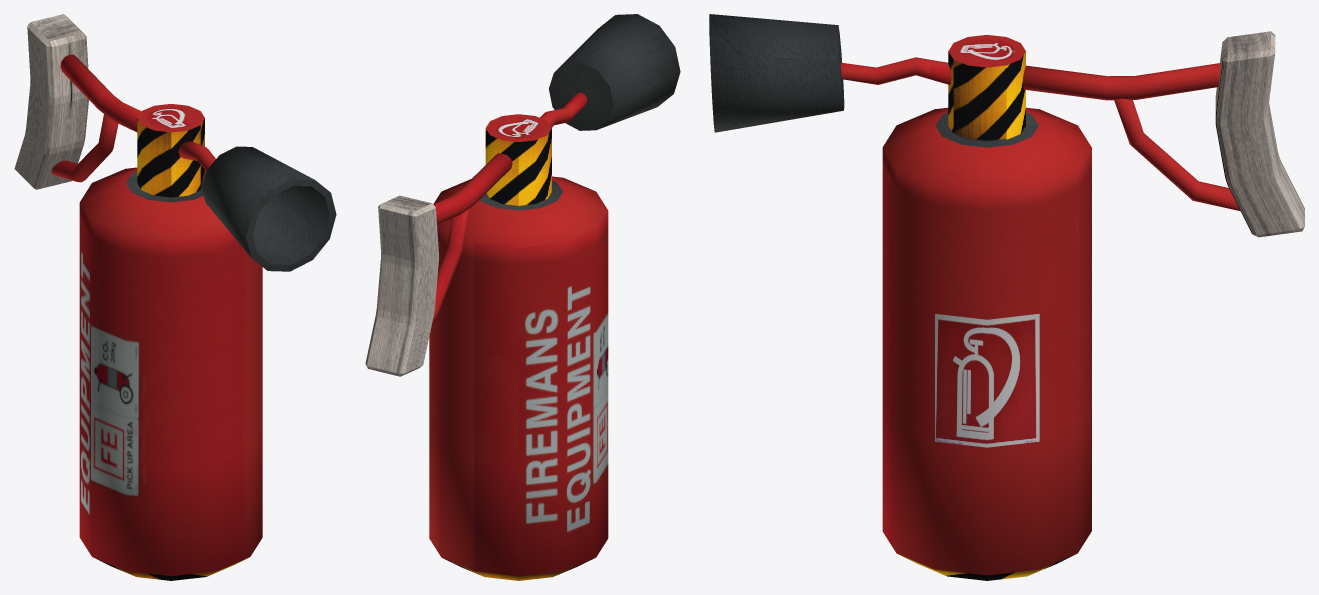
File: FireExtinguisher.fbx
The picture shows the model from 3 angles, left to right: view 1: azimuth 30°, elevation 25°; view 2: azimuth 150°, elevation 25°; view 3: azimuth 270°, elevation 25°; orthographic projection. The views are drawn at different scales.
Visible parts, largest first — view 1: Cylinder; view 2: Cylinder; view 3: Cylinder.
Part boxes in pixels (box(x1,y1,x2,y2)): Cylinder: box(14, 14, 336, 580); Cylinder: box(365, 14, 680, 580); Cylinder: box(709, 14, 1304, 580).
Size of the model in its own units: 0.1978 by 0.5627 by 0.5502.
